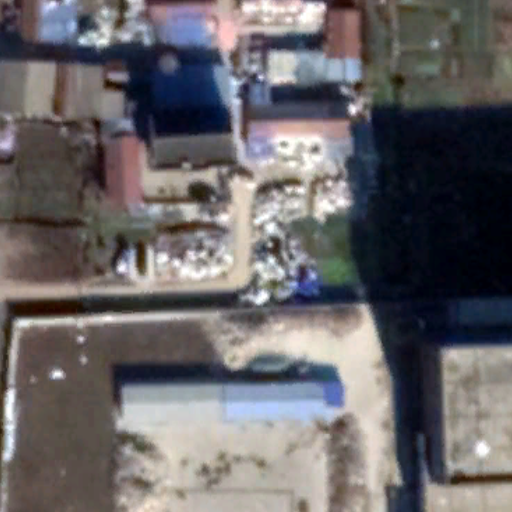msw: (253, 178, 354, 303)
